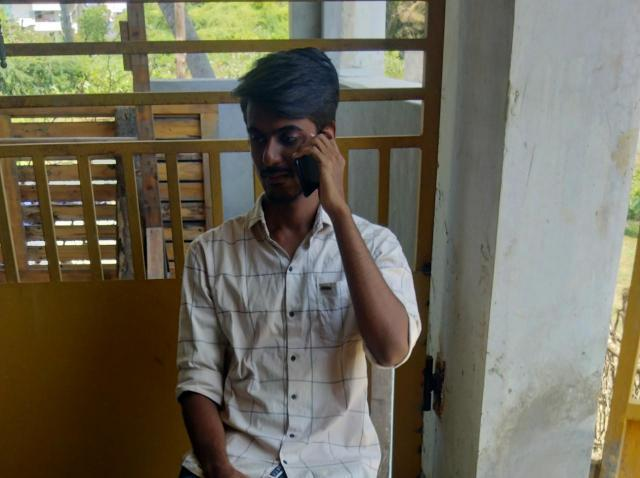PhoneUse: (298, 138, 338, 194)
